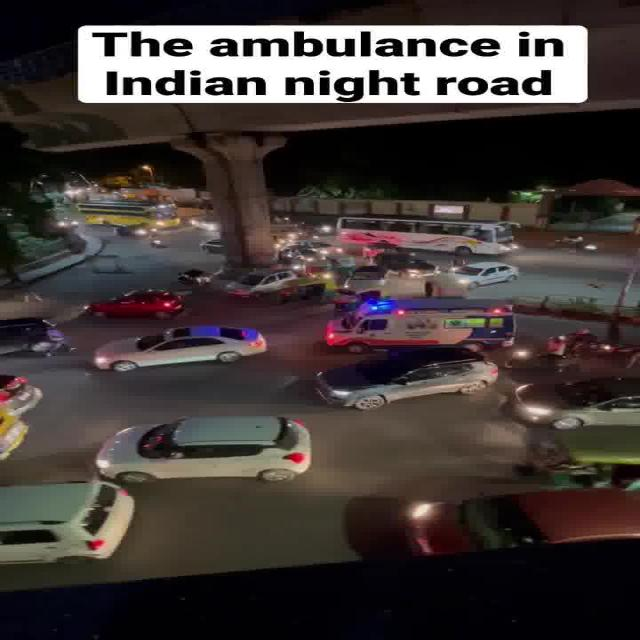ambulance: (327, 294, 518, 351)
